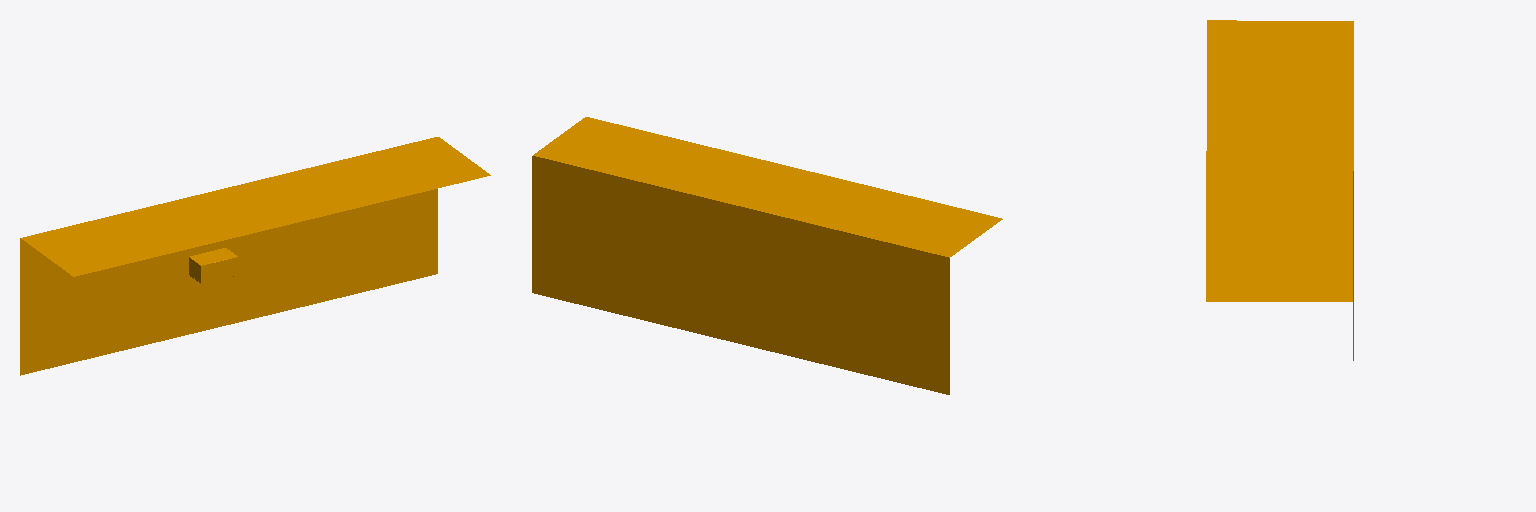
robot.urdf — none:
<robot name="none">
       <link name="none">
           <visual>
               <origin rpy=" 0 0 3.14" xyz="0 0 0" />
               <geometry>
                   <mesh filename="СhestOfDrawers.obj"  scale="0.02 0.02 0.02"/>
               </geometry>
           </visual>
          <collision>
<origin rpy="1.57 0 0" xyz="0 0 0.5" />
              <geometry>
                  <box size="1.000000 0.960000 0.850000" />
              </geometry>
          </collision>

          <inertial>
            <mass value=".0" />
            <inertia ixx="0.05" ixy="0.0" ixz="0.0" iyy="0.05" iyz="0.0" izz="0.05"/>
          </inertial>
      </link>
  </robot>

--- Render facts (derived) ---
The picture shows the robot from 3 angles, left to right: view 1: azimuth 30°, elevation 25°; view 2: azimuth 150°, elevation 25°; view 3: azimuth 270°, elevation 25°; orthographic projection.
Model none with 1 links and 0 joints (none), rooted at none, posed all joints at 0.
Links seen in each view (by area): view 1: none; view 2: none; view 3: none.
Boxes of the visible links, x1,y1,x2,y2 form: none: [20, 137, 490, 375]; none: [532, 117, 1002, 394]; none: [1206, 20, 1353, 360].
Bounding box of the posed robot: 14.59 × 3.25 × 4.59 m (x, y, z).
1 mesh visuals loaded from 1 distinct referenced files (1 OBJ).